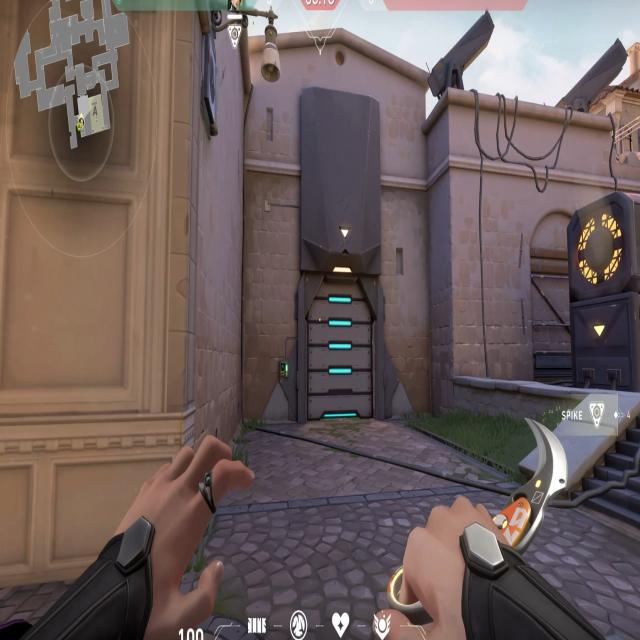A_Door: (299, 253, 382, 425)
